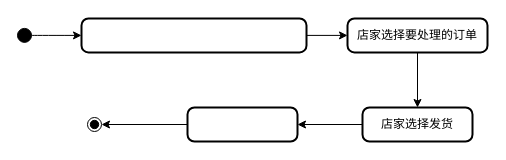
Some shapes in this 506 by 160 pixel diagram are drawn without their labels. Here are the shapes that lost their labels. From the top down, the centre of each, then its label:
At point (193, 35): "店家登陆并进入订单列表".
At point (242, 124): "系统更新订单状态".
